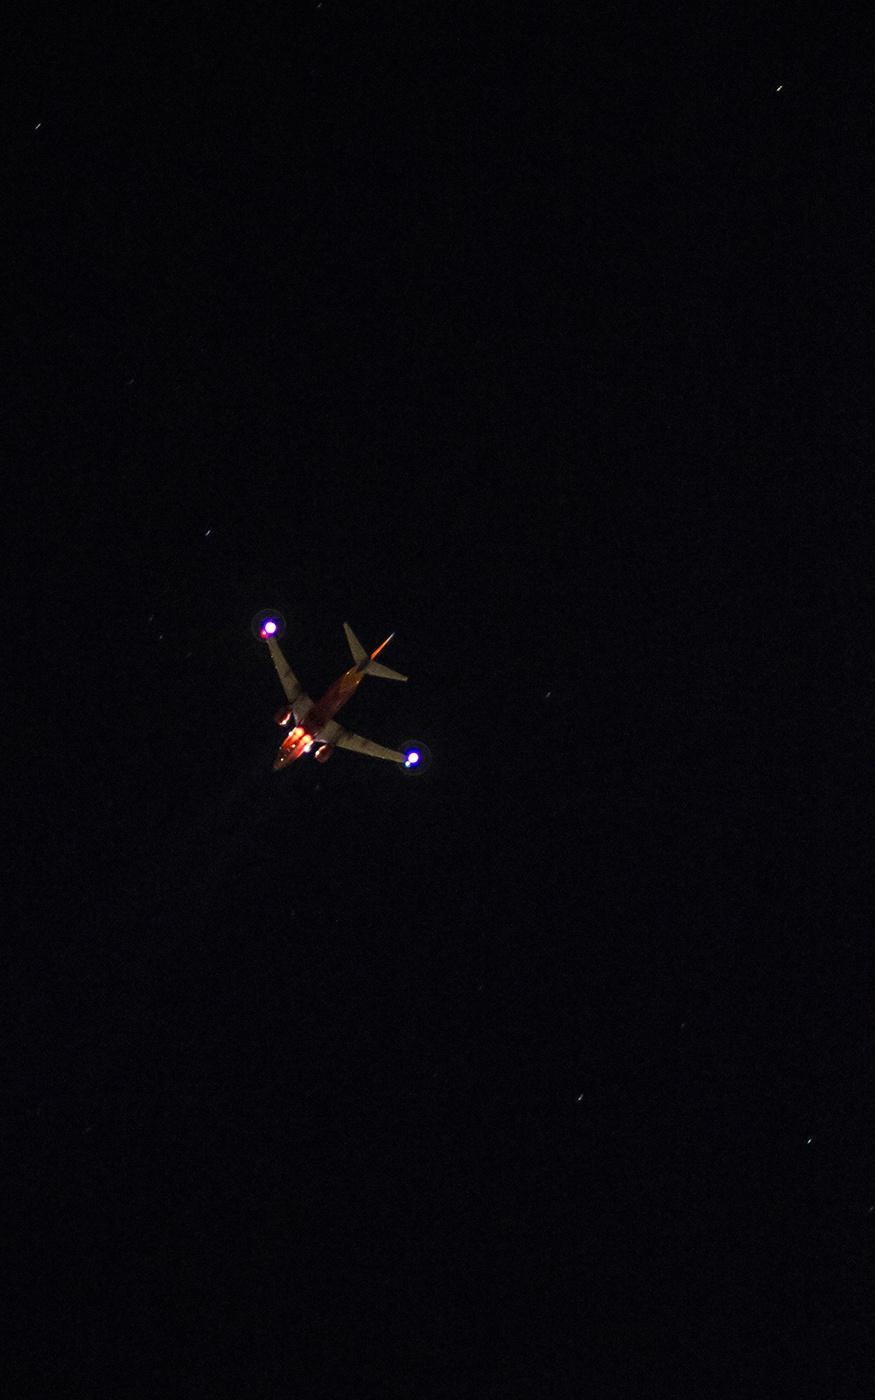Plane: (212, 592, 456, 877)
